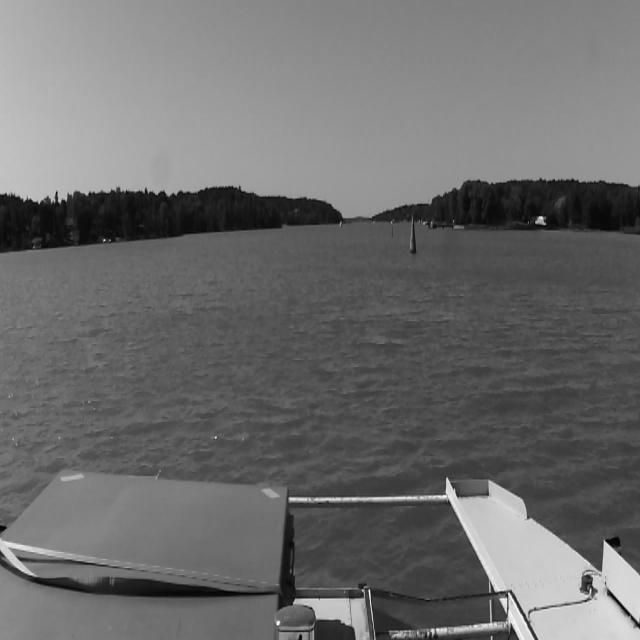buoy: (410, 218, 417, 252)
